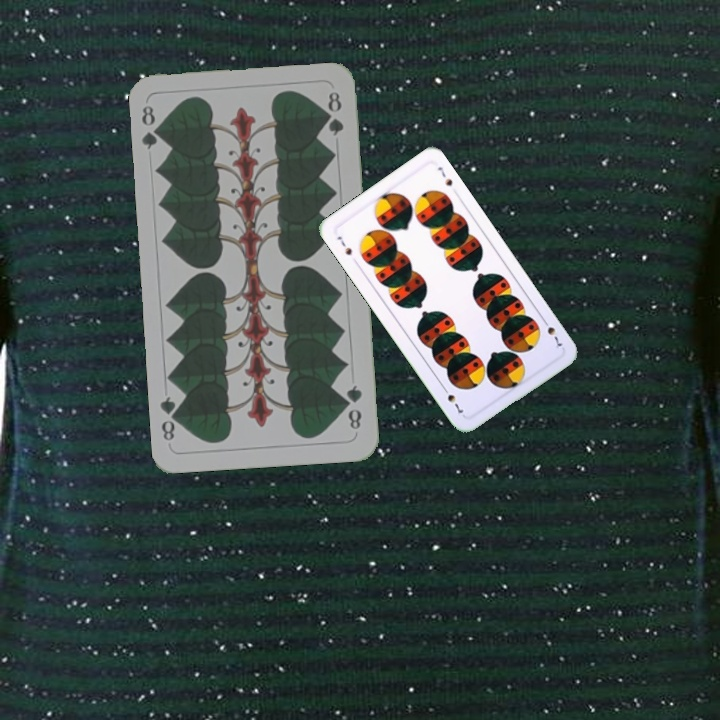G8: (137, 101, 165, 152), (341, 381, 365, 432)
S7: (538, 314, 565, 349), (333, 232, 354, 258)
